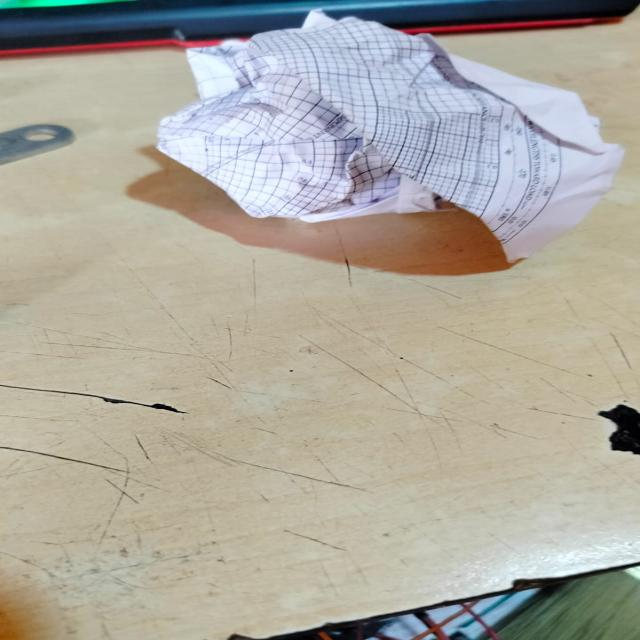Paper: (155, 12, 622, 275)
